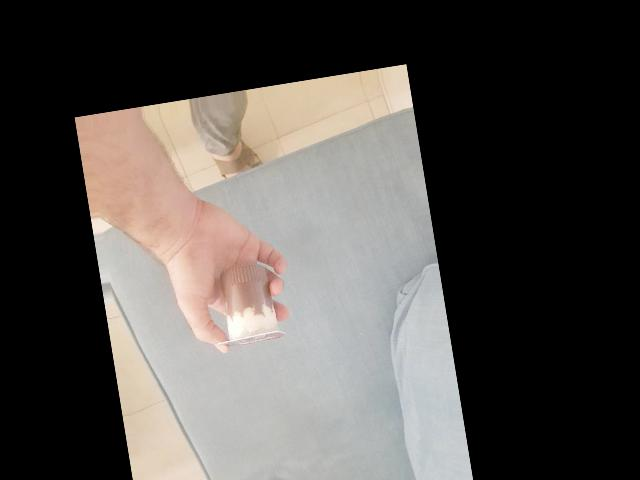milky: (299, 292, 396, 366)
